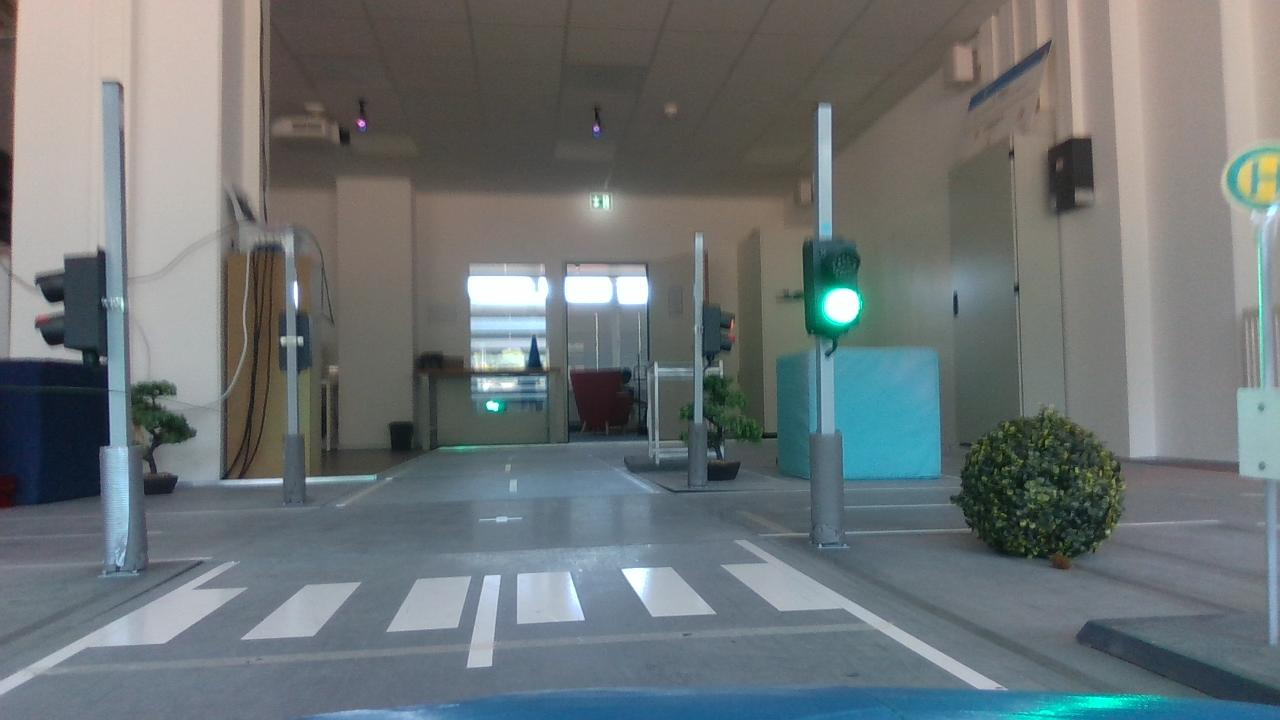traffic_light_green: (791, 226, 875, 349)
